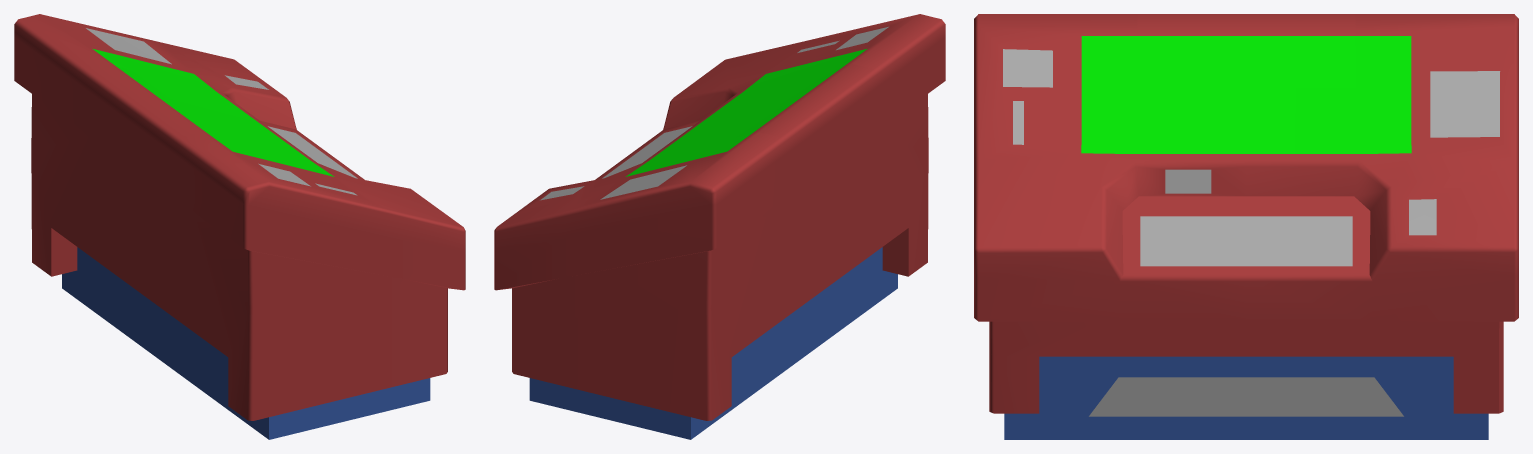
The model's file is SM_Computer_01.fbx.
The picture shows the model from 3 angles, left to right: view 1: azimuth 30°, elevation 25°; view 2: azimuth 150°, elevation 25°; view 3: azimuth 270°, elevation 25°; orthographic projection. The views are drawn at different scales.
Visible parts, largest first — view 1: SM_Computer_01; view 2: SM_Computer_01; view 3: SM_Computer_01.
Part boxes in pixels (bbox=[...]): SM_Computer_01: bbox=[14, 14, 465, 439]; SM_Computer_01: bbox=[494, 14, 945, 439]; SM_Computer_01: bbox=[974, 14, 1518, 439].
Bounding box in the file's own units: 138 × 160 × 250.
